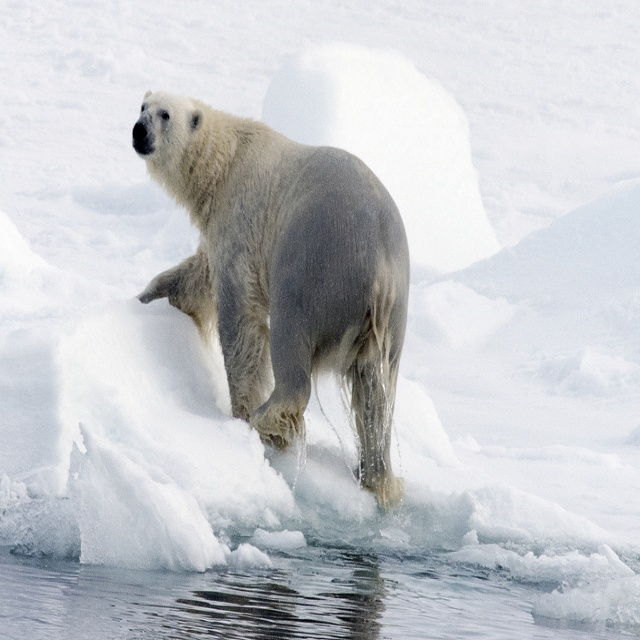Polar bear: (130, 85, 412, 521)
